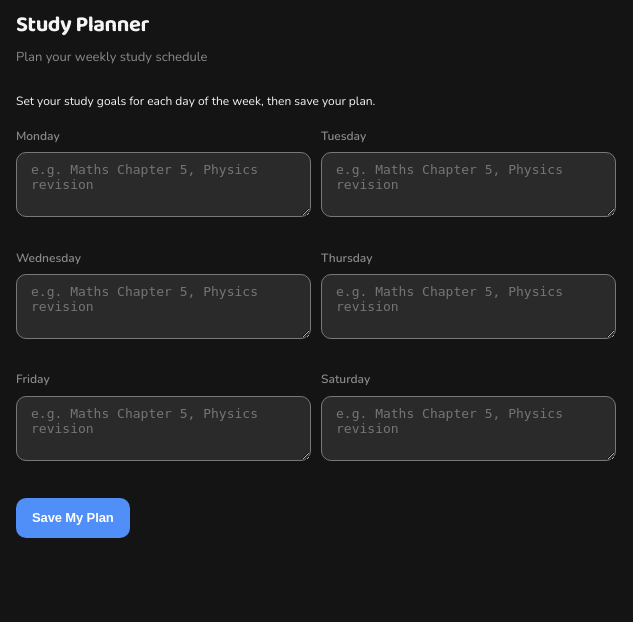
Test: study planner reports a failed save and does not claim automatic saving
What coordinates should you click on to do the following:
click the button "Save My Plan"
I would click on:
 (73, 518)
Its box is [16,498,130,538].
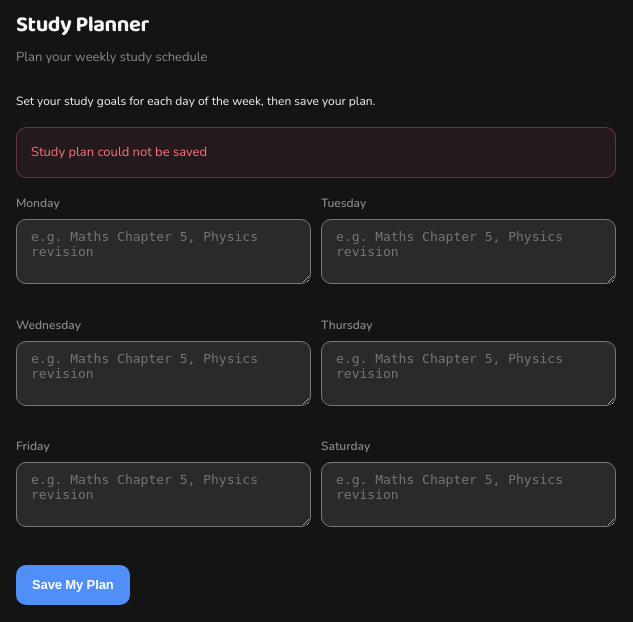
Check: the message reads "Study plan could not be saved", box [31,143,207,161]
